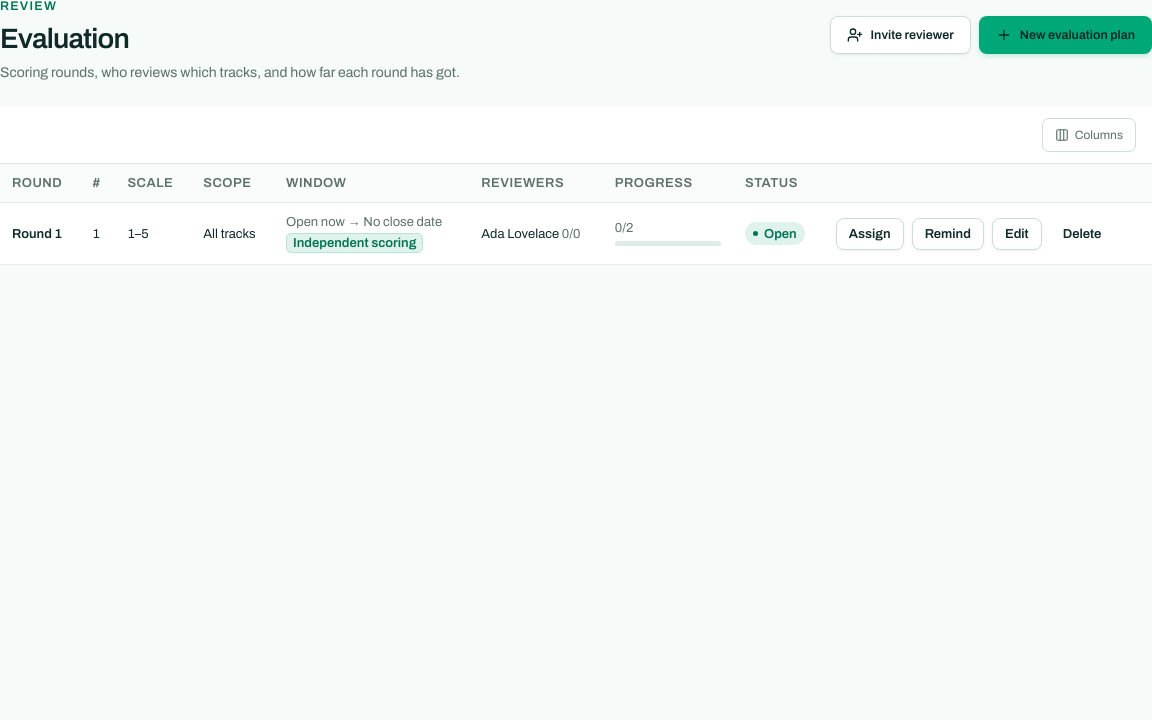
Test case: evaluation round list after a write › takes a deleted round off the list as soon as the server confirms it
The width and height of the screenshot is (1152, 720).
Click the button "Delete": coordinates (1082, 234) top-left (1050, 218), bottom-right (1114, 250)
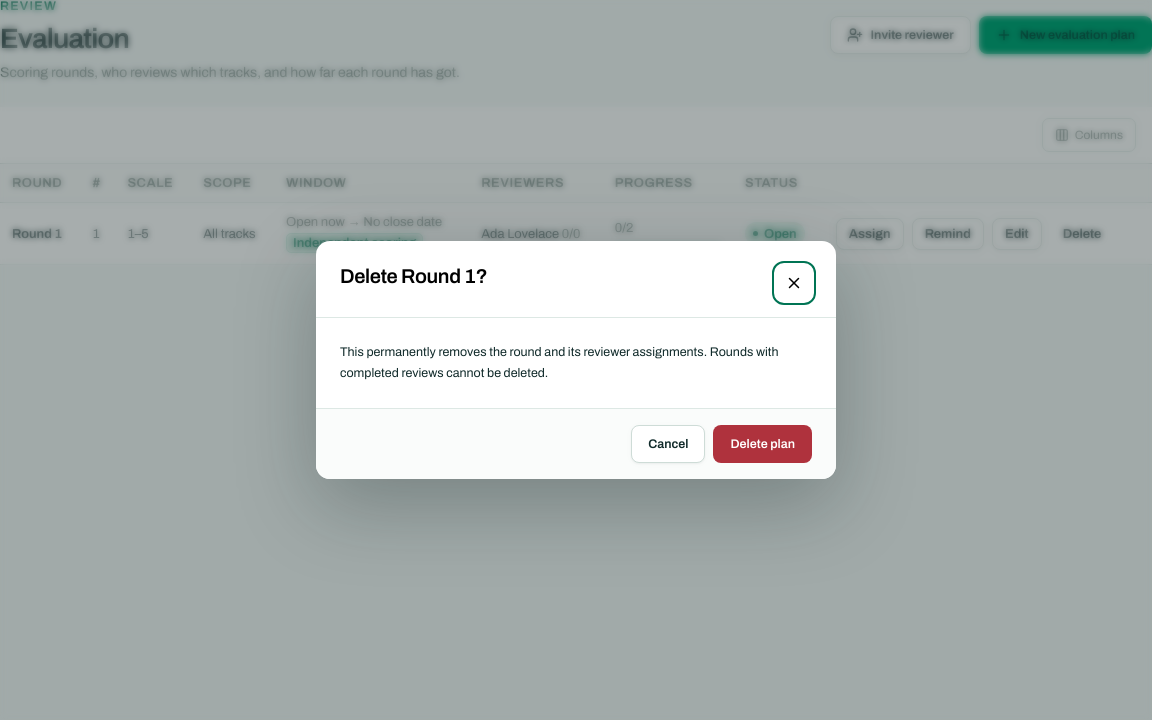
Click the button "Delete plan": coordinates (763, 444) top-left (714, 425), bottom-right (812, 463)
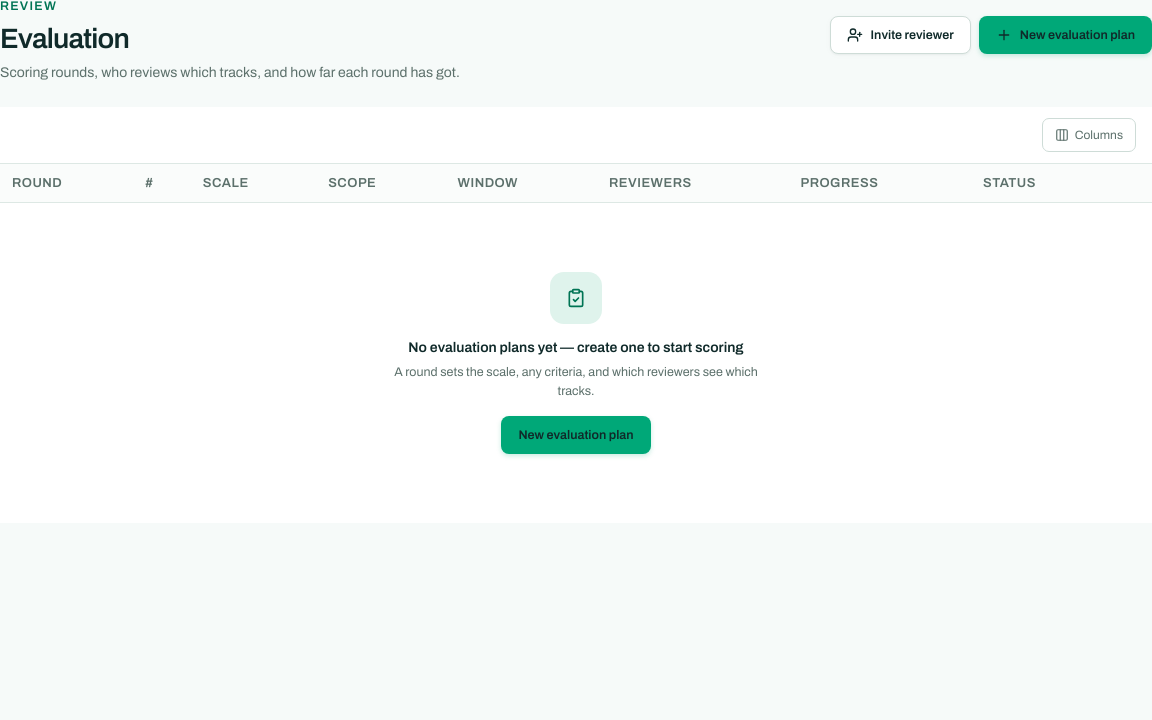
Expected: the text "No evaluation plans yet" is shown, top-left (408, 340), bottom-right (744, 355)
